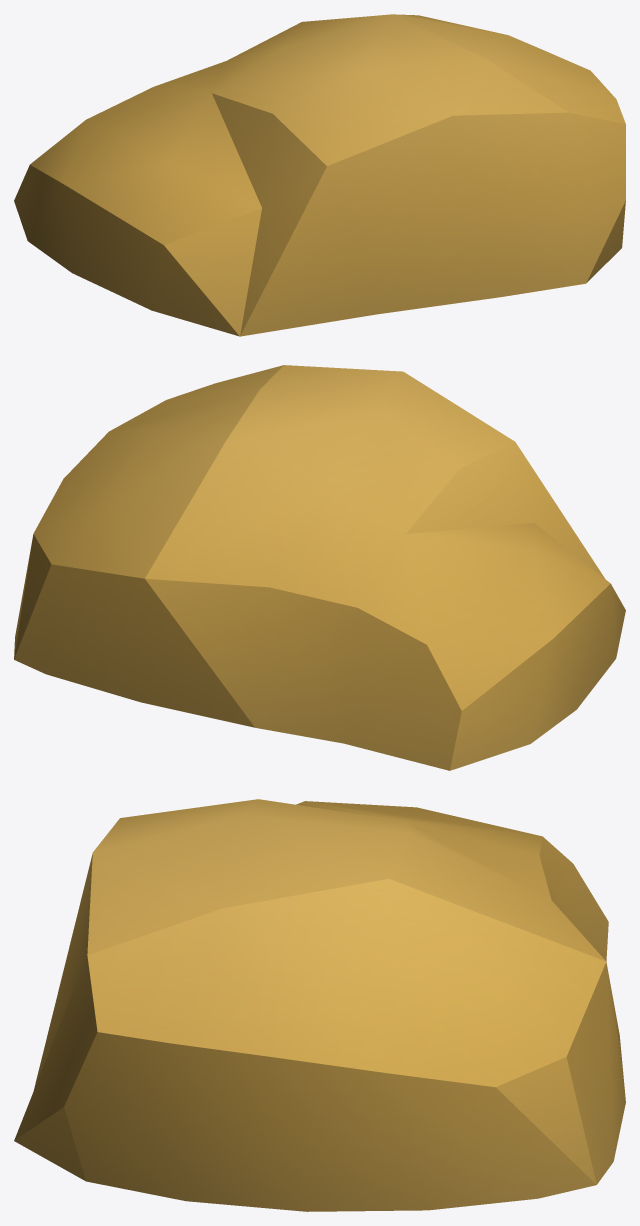
The model's file is Forest_Stone_002.FBX.
3 renders of one model, top to bottom at view 1: azimuth 30°, elevation 25°; view 2: azimuth 150°, elevation 25°; view 3: azimuth 270°, elevation 25°, orthographic. The views are drawn at different scales.
Parts seen in each view (by area): view 1: Forest_Stone_002; view 2: Forest_Stone_002; view 3: Forest_Stone_002.
Part boxes in pixels (x1,y1,x2,y2): Forest_Stone_002: (14, 14, 625, 336); Forest_Stone_002: (14, 365, 625, 770); Forest_Stone_002: (14, 799, 625, 1211).
Bounding box in the file's own units: 387 × 139 × 323.
Materials: 1 (1 with a texture image).
